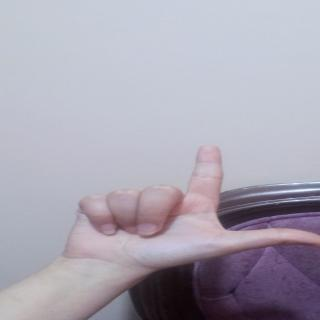LAAM: (65, 135, 320, 262)
